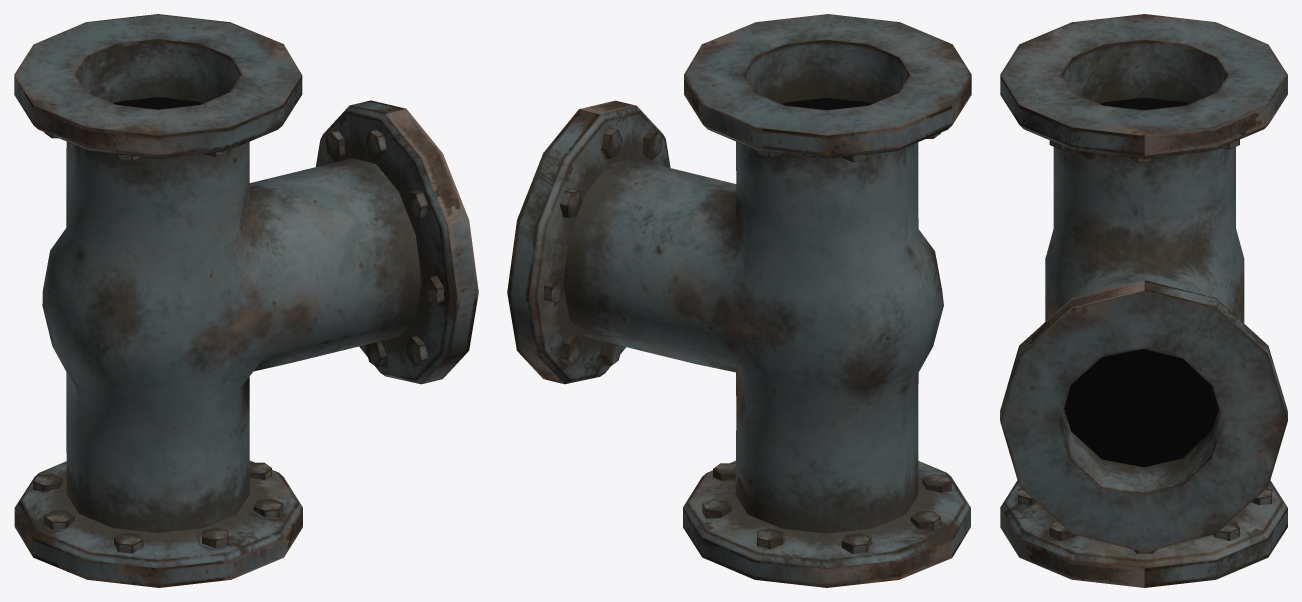
Rendered from pipe06.glb.
3 views of the same model, side by side, from view 1: azimuth 30°, elevation 25°; view 2: azimuth 150°, elevation 25°; view 3: azimuth 270°, elevation 25° (orthographic).
Visible parts, largest first — view 1: modular_industrial_pipes_01_pipe06.001; view 2: modular_industrial_pipes_01_pipe06.001; view 3: modular_industrial_pipes_01_pipe06.001.
Part boxes in pixels (<box>): modular_industrial_pipes_01_pipe06.001: <box>14,14,478,587</box>; modular_industrial_pipes_01_pipe06.001: <box>507,14,971,587</box>; modular_industrial_pipes_01_pipe06.001: <box>1000,14,1287,587</box>.
Size of the model in its own units: 0.3087 by 0.3576 by 0.2064.
Materials: 1 (1 with a texture image).
